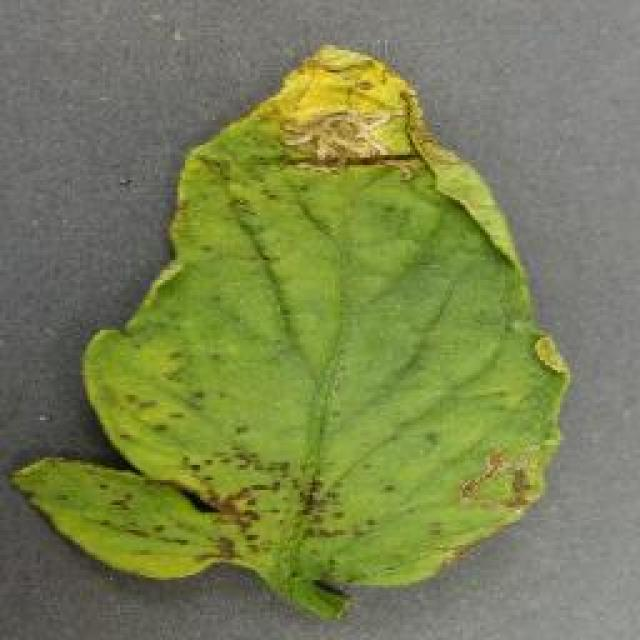Tomato___Bacterial_spot: (10, 39, 570, 627)
